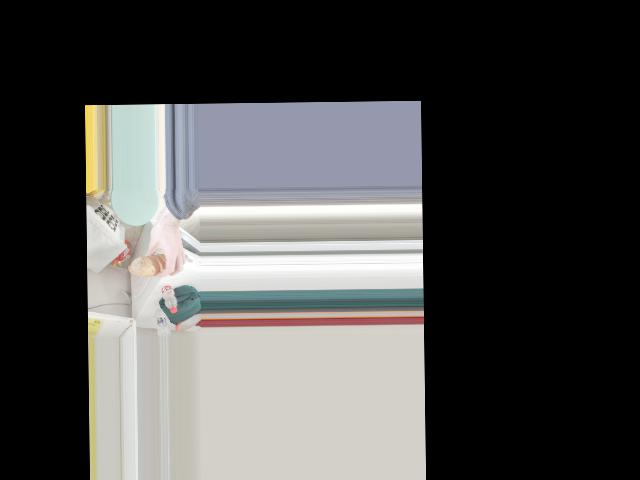sweet_potato: (139, 243, 175, 272)
